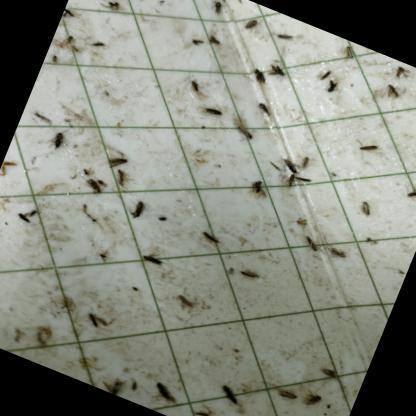prays_oleae: (146, 364, 191, 416), (214, 364, 250, 412), (266, 378, 301, 414), (10, 202, 42, 241), (138, 242, 173, 274), (234, 258, 266, 290), (244, 168, 274, 201), (39, 130, 67, 165), (80, 167, 108, 202), (264, 52, 291, 88), (350, 132, 380, 162), (277, 152, 307, 182), (245, 59, 272, 91), (124, 198, 151, 230), (322, 238, 350, 268), (295, 388, 325, 416), (171, 286, 200, 314), (252, 96, 279, 126), (231, 119, 257, 149), (377, 82, 404, 110), (105, 148, 132, 176), (111, 166, 137, 192), (235, 14, 260, 41), (300, 231, 324, 258), (351, 193, 376, 218), (272, 25, 296, 51), (198, 223, 224, 247), (200, 99, 226, 121), (336, 43, 358, 69), (278, 169, 298, 197), (183, 78, 204, 104), (320, 75, 340, 102), (317, 363, 340, 386), (184, 32, 208, 52), (206, 0, 228, 21), (294, 152, 314, 174), (389, 64, 408, 84), (88, 33, 107, 53), (316, 64, 332, 87), (205, 34, 222, 52), (402, 184, 416, 205), (104, 0, 121, 16)
